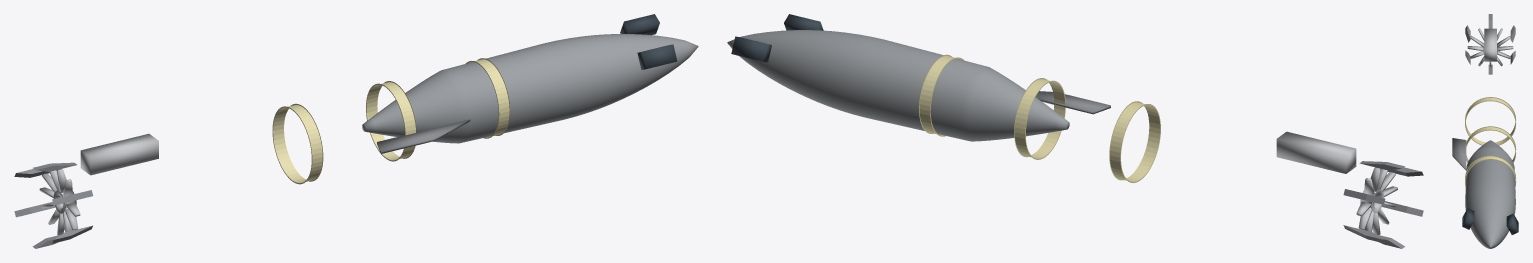
Rendered from FR_TORP_L5_Mod4_LOD0.fbx.
3 renders of one model, left to right at view 1: azimuth 30°, elevation 25°; view 2: azimuth 150°, elevation 25°; view 3: azimuth 270°, elevation 25°, orthographic. The views are drawn at different scales.
Visible parts, largest first — view 1: WPN_FR_TORP_L5_Mod4_LOD0_Body, WPN_FR_TORP_L5_Mod4_LOD0_Marking, WPN_FR_TORP_L5_Mod4_LOD0_Detail, WPN_FR_TORP_L5_Mod4_LOD0_Propulsor, WPN_FR_TORP_L5_Mod4_LOD0_Fins, WPN_FR_TORP_L5_Mod4_LOD0_Seeker; view 2: WPN_FR_TORP_L5_Mod4_LOD0_Body, WPN_FR_TORP_L5_Mod4_LOD0_Marking, WPN_FR_TORP_L5_Mod4_LOD0_Detail, WPN_FR_TORP_L5_Mod4_LOD0_Propulsor, WPN_FR_TORP_L5_Mod4_LOD0_Fins, WPN_FR_TORP_L5_Mod4_LOD0_Seeker; view 3: WPN_FR_TORP_L5_Mod4_LOD0_Body, WPN_FR_TORP_L5_Mod4_LOD0_Marking, WPN_FR_TORP_L5_Mod4_LOD0_Detail, WPN_FR_TORP_L5_Mod4_LOD0_Propulsor, WPN_FR_TORP_L5_Mod4_LOD0_Seeker, WPN_FR_TORP_L5_Mod4_LOD0_Fins.
Part boxes in pixels (box(x1,y1,x2,y2)): WPN_FR_TORP_L5_Mod4_LOD0_Body: box(362, 34, 698, 143); WPN_FR_TORP_L5_Mod4_LOD0_Marking: box(272, 58, 510, 184); WPN_FR_TORP_L5_Mod4_LOD0_Detail: box(80, 119, 470, 175); WPN_FR_TORP_L5_Mod4_LOD0_Propulsor: box(39, 169, 80, 235); WPN_FR_TORP_L5_Mod4_LOD0_Fins: box(14, 162, 93, 248); WPN_FR_TORP_L5_Mod4_LOD0_Seeker: box(620, 14, 677, 69); WPN_FR_TORP_L5_Mod4_LOD0_Body: box(727, 30, 1069, 141); WPN_FR_TORP_L5_Mod4_LOD0_Marking: box(919, 54, 1160, 182); WPN_FR_TORP_L5_Mod4_LOD0_Detail: box(1035, 91, 1356, 173); WPN_FR_TORP_L5_Mod4_LOD0_Propulsor: box(1356, 167, 1397, 234); WPN_FR_TORP_L5_Mod4_LOD0_Fins: box(1343, 161, 1423, 248); WPN_FR_TORP_L5_Mod4_LOD0_Seeker: box(731, 14, 823, 62); WPN_FR_TORP_L5_Mod4_LOD0_Body: box(1465, 140, 1515, 248); WPN_FR_TORP_L5_Mod4_LOD0_Marking: box(1465, 97, 1516, 186); WPN_FR_TORP_L5_Mod4_LOD0_Detail: box(1452, 28, 1496, 170); WPN_FR_TORP_L5_Mod4_LOD0_Propulsor: box(1467, 28, 1513, 68); WPN_FR_TORP_L5_Mod4_LOD0_Seeker: box(1462, 208, 1518, 234); WPN_FR_TORP_L5_Mod4_LOD0_Fins: box(1465, 14, 1515, 74).
Size of the model in its own units: 5.18 by 0.698 by 0.6051.
